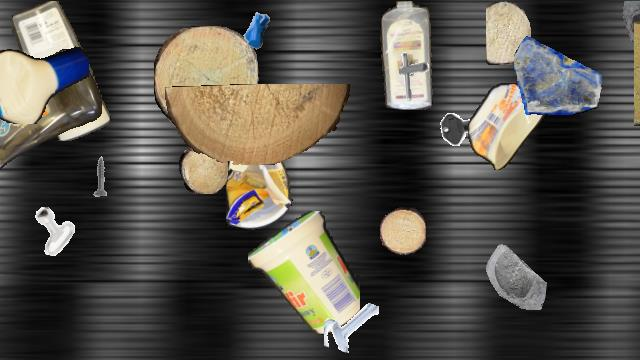glass: (514, 29, 602, 117), (473, 235, 547, 309), (619, 1, 640, 65)
metal: (229, 1, 283, 55), (324, 298, 378, 352), (384, 49, 438, 103), (29, 207, 77, 255), (79, 155, 121, 197), (438, 107, 480, 149), (0, 103, 24, 141), (638, 308, 640, 352)
plastic: (0, 47, 102, 205), (8, 1, 114, 141), (248, 211, 360, 335), (0, 36, 88, 124), (468, 83, 546, 169), (226, 132, 294, 230), (378, 1, 436, 109)
wood: (165, 84, 351, 164), (154, 26, 258, 130), (486, 1, 530, 65), (179, 145, 227, 193), (380, 207, 426, 255), (634, 22, 640, 126)
